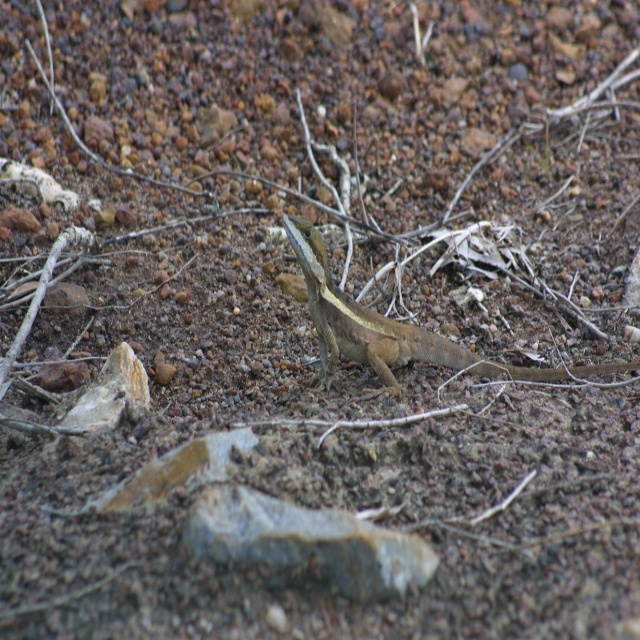Lizard: (282, 213, 636, 402)
